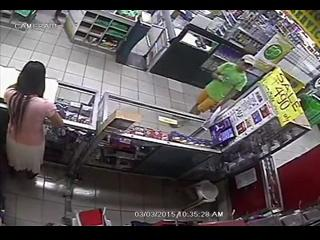Normal: (4, 60, 65, 180), (188, 54, 256, 117)
